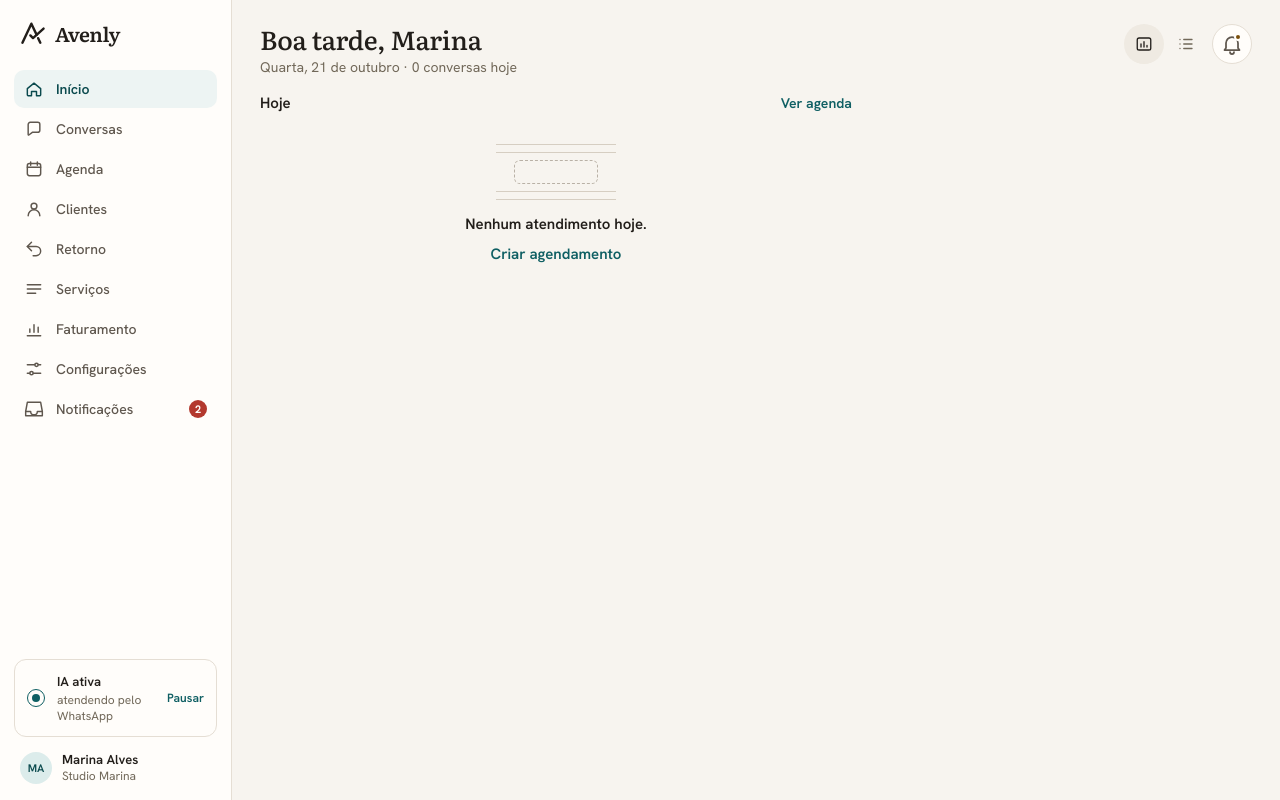
Test: a gaveta: ver é ler › abrir marca as não lidas visíveis pelo id e mantém o destaque até fechar
The image size is (1280, 800).
Click the button named "Notificações, 2 não lidas". click: {"x": 1232, "y": 44}
box: [1212,24,1252,64]
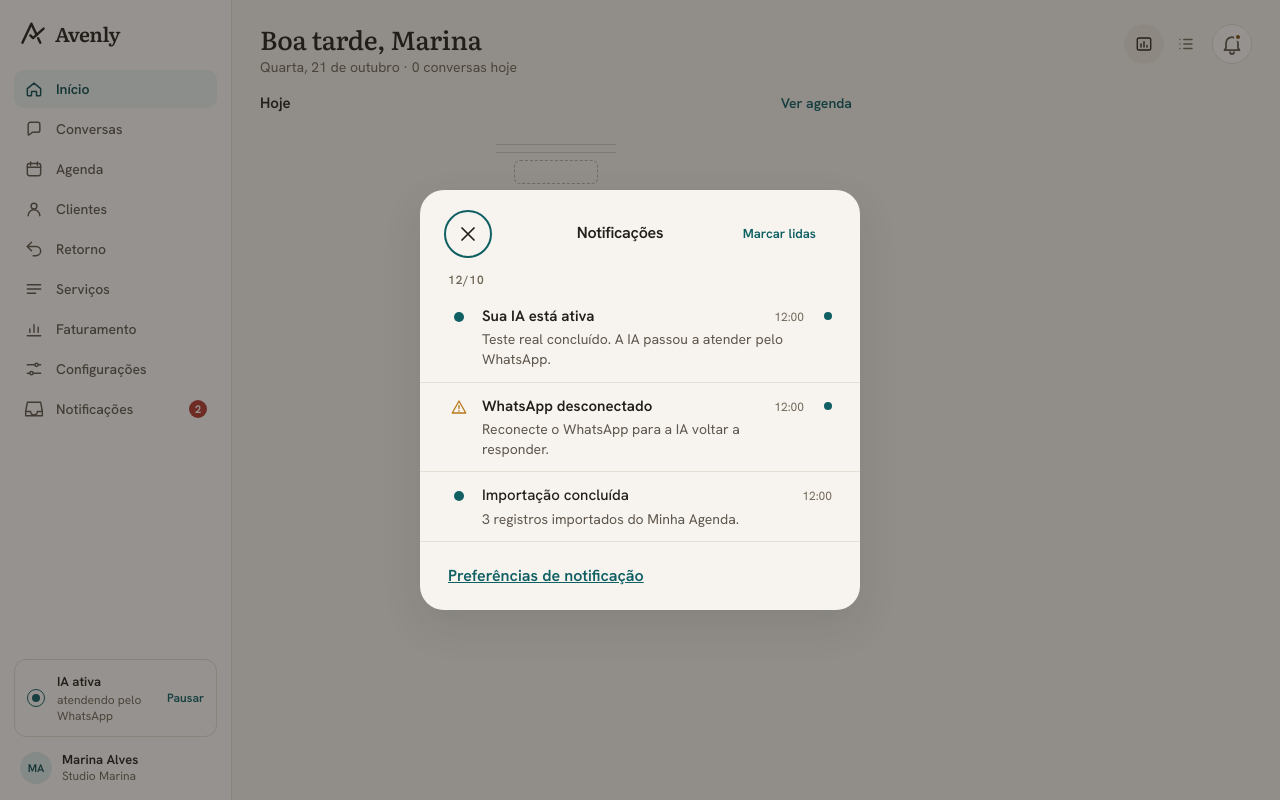
Check: the text "Sua IA está ativa" is shown, box [482,305,594,328]
Check: the number of list items with class "is-unread" is 2, box [420,293,860,382]; [420,382,860,471]
